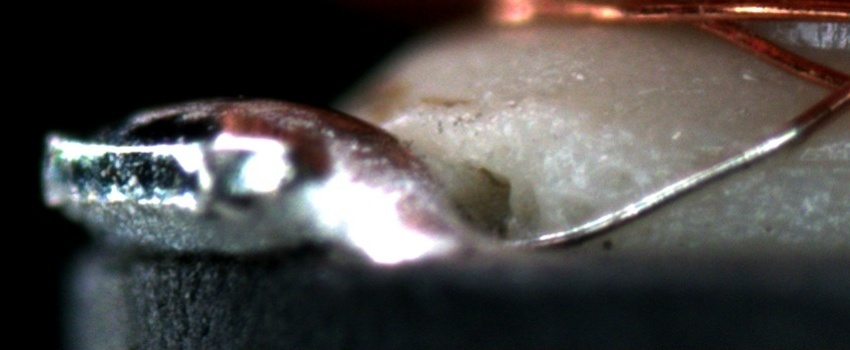CL: (804, 56, 849, 119)
DL: (670, 131, 849, 196)
TS: (502, 126, 799, 249)
